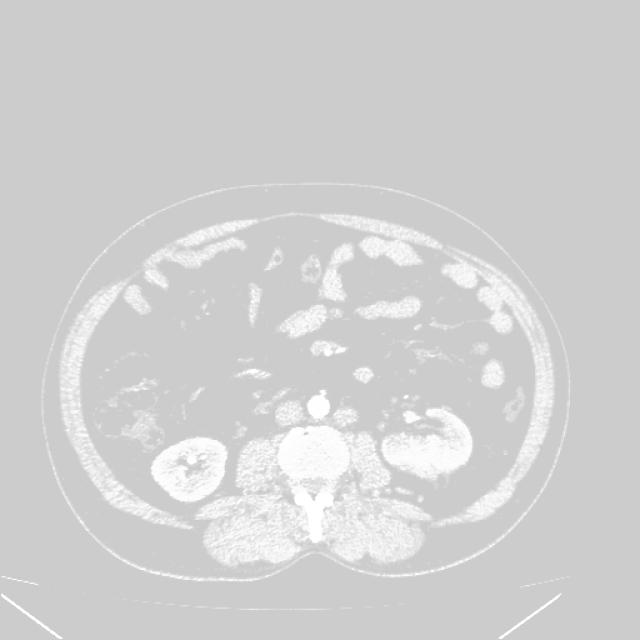TUMOR: (114, 289, 561, 494)
